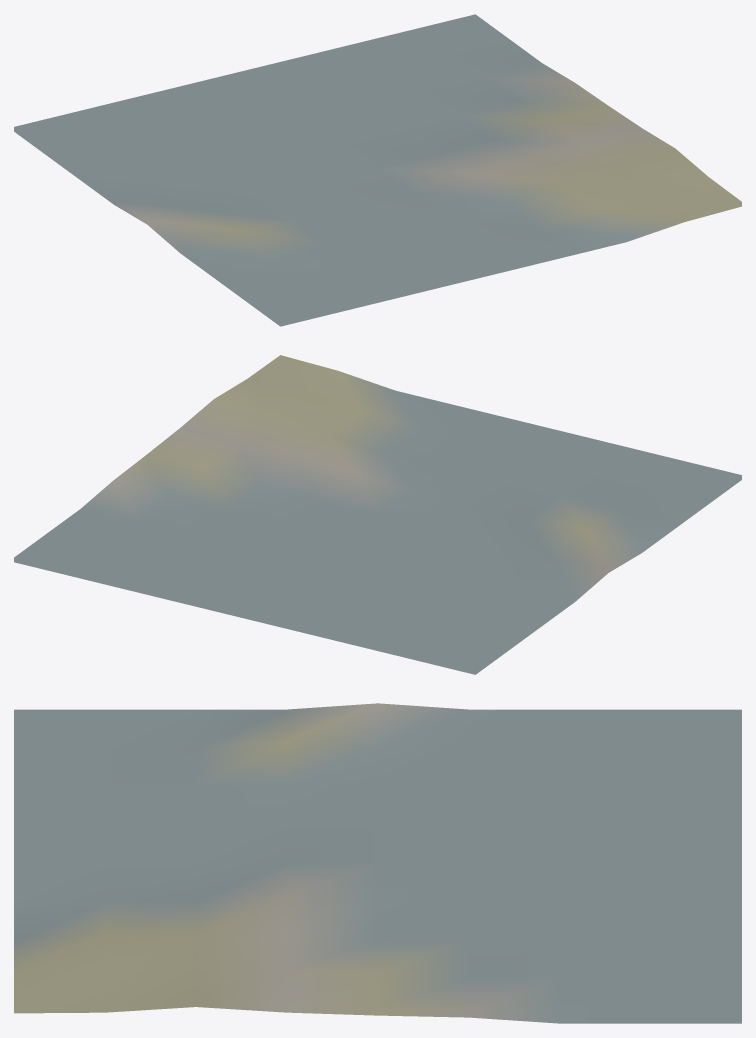
The picture shows the model from 3 angles, top to bottom: view 1: azimuth 30°, elevation 25°; view 2: azimuth 150°, elevation 25°; view 3: azimuth 270°, elevation 25°; orthographic projection. The views are drawn at different scales.
Parts seen in each view (by area): view 1: prim0; view 2: prim0; view 3: prim0.
Boxes of the visible parts, x1,y1,x2,y2 form: prim0: [14, 14, 741, 326]; prim0: [14, 355, 741, 674]; prim0: [14, 703, 741, 1023].
Size of the model in its own units: 512 by 17.88 by 512.
